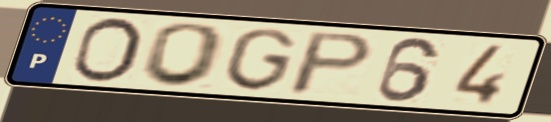4: (450, 44, 508, 108)
6: (373, 36, 444, 105)
G: (220, 26, 300, 94)
O: (137, 21, 231, 88), (67, 15, 146, 85)
P: (283, 30, 379, 97)
